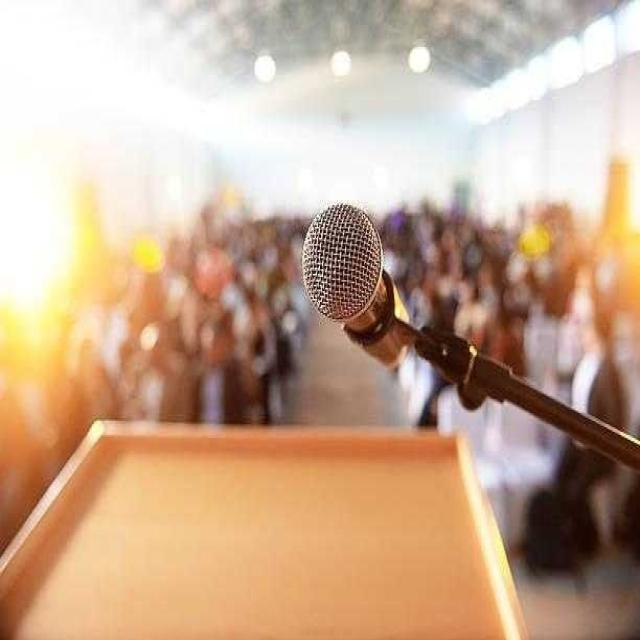microphone: (298, 202, 424, 404)
